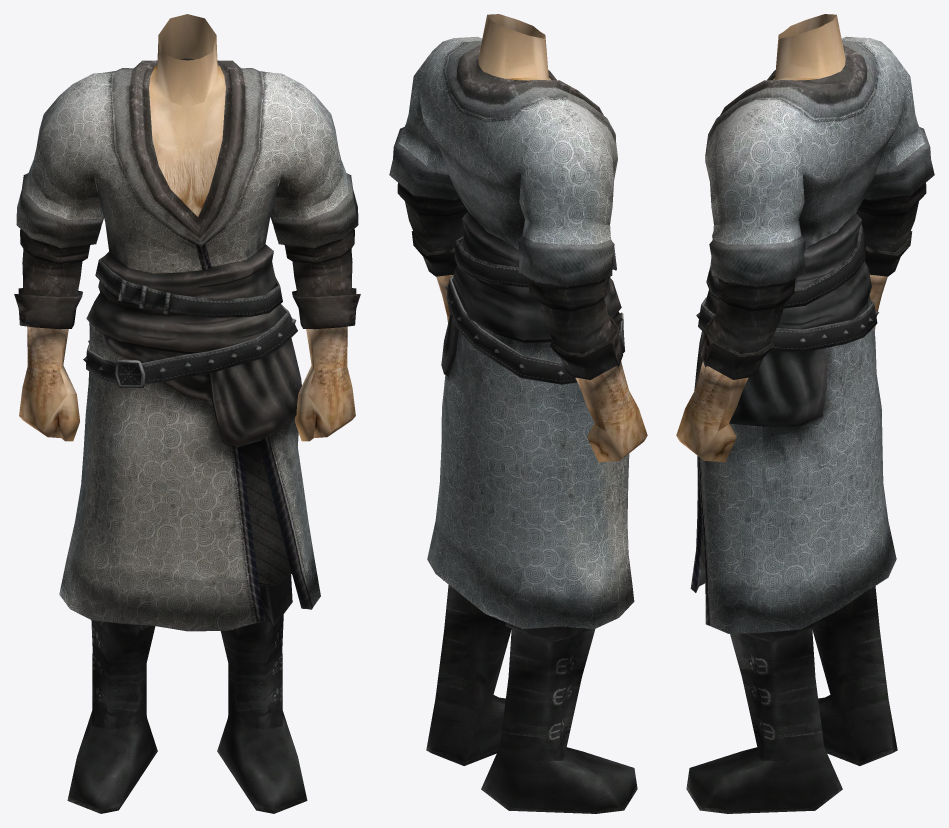
The model's file is KOSA_KONTUSZ_WHITE.glb.
3 renders of one model, left to right at view 1: azimuth 30°, elevation 25°; view 2: azimuth 150°, elevation 25°; view 3: azimuth 270°, elevation 25°, orthographic.
Visible parts, largest first — view 1: KOSA_KONTUSZ_WHITE; view 2: KOSA_KONTUSZ_WHITE; view 3: KOSA_KONTUSZ_WHITE.
Boxes of the visible parts, left/top/right/bottom form: KOSA_KONTUSZ_WHITE: left=14, top=14, right=360, bottom=813; KOSA_KONTUSZ_WHITE: left=389, top=14, right=647, bottom=813; KOSA_KONTUSZ_WHITE: left=676, top=14, right=934, bottom=813.
Size of the model in its own units: 0.6664 by 1.69 by 0.5199.
Materials: 2 (2 with a texture image).
